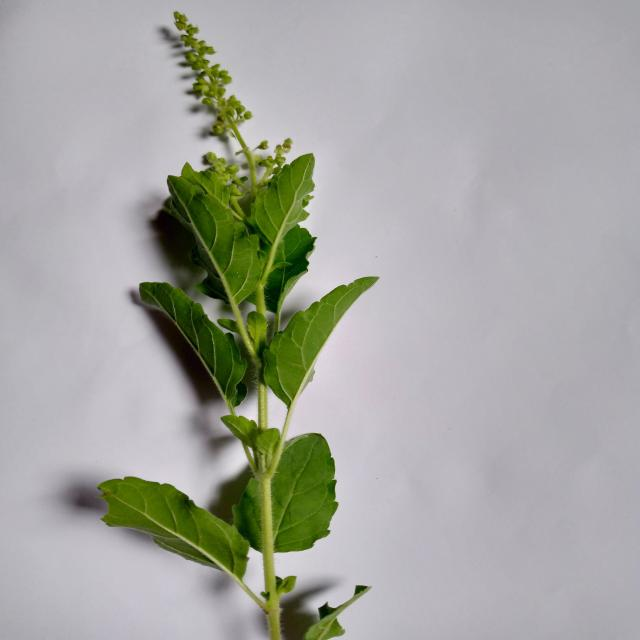tulsi: (103, 9, 381, 640)
